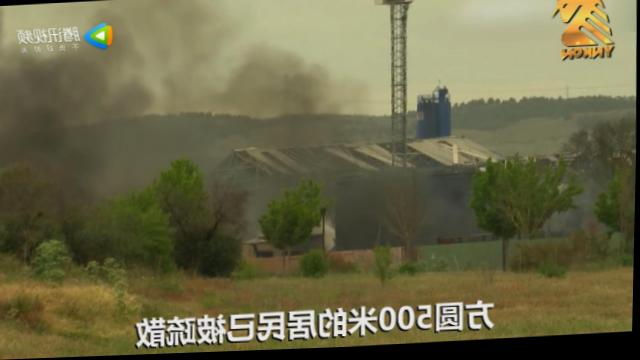smoke: (127, 15, 215, 112), (15, 55, 112, 130), (237, 63, 334, 117)
